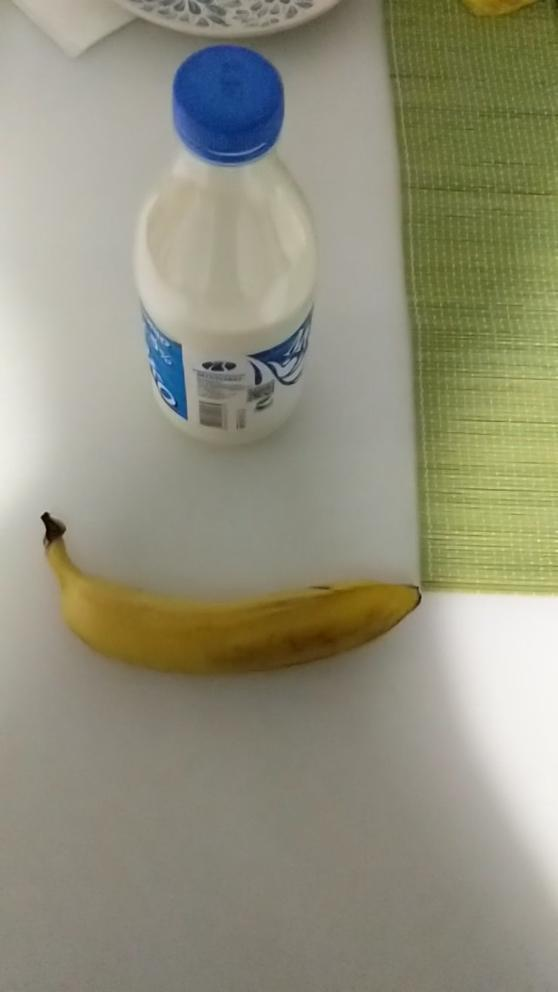banana: (28, 487, 439, 682)
milk: (126, 33, 325, 458)
